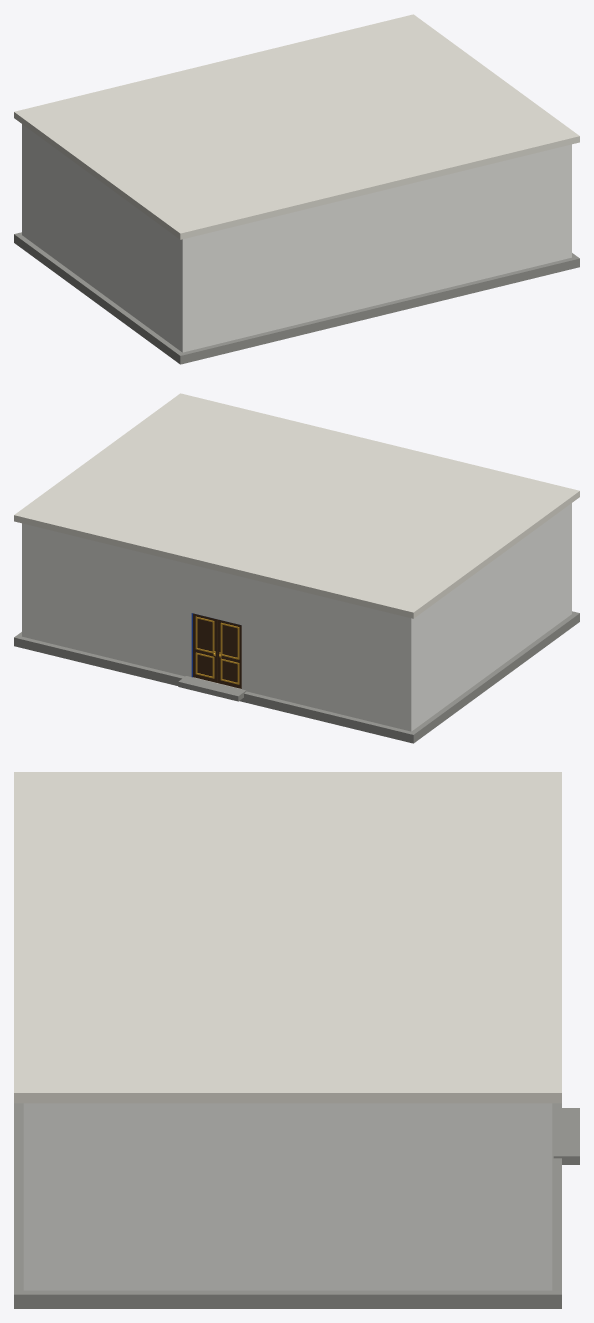
The model's file is SM_Interior_academy_classroom_Shell.fbx.
The picture shows the model from 3 angles, top to bottom: view 1: azimuth 30°, elevation 25°; view 2: azimuth 150°, elevation 25°; view 3: azimuth 270°, elevation 25°; orthographic projection. The views are drawn at different scales.
Parts seen in each view (by area): view 1: SM_Interior_academy_classroom_Shell; view 2: SM_Interior_academy_classroom_Shell; view 3: SM_Interior_academy_classroom_Shell.
Part boxes in pixels (<box>): SM_Interior_academy_classroom_Shell: <box>14,14,579,364</box>; SM_Interior_academy_classroom_Shell: <box>14,393,579,743</box>; SM_Interior_academy_classroom_Shell: <box>14,772,579,1308</box>.
Size of the model in its own units: 14.36 by 4.5 by 10.7.
